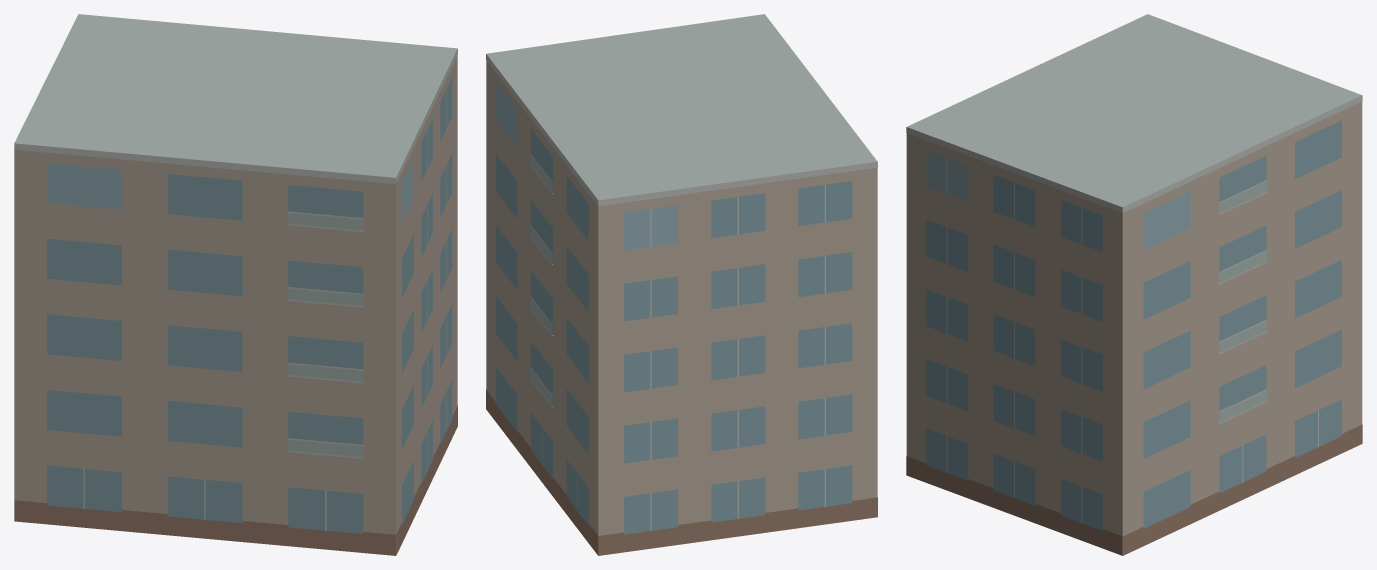
Rendered from survey-upis-33044371.glb.
3 views of the same model, side by side, from view 1: azimuth 30°, elevation 25°; view 2: azimuth 150°, elevation 25°; view 3: azimuth 270°, elevation 25° (orthographic). The views are drawn at different scales.
Parts seen in each view (by area): view 1: survey-upis-33044371.tmp; view 2: survey-upis-33044371.tmp; view 3: survey-upis-33044371.tmp.
Part boxes in pixels (x1=…): survey-upis-33044371.tmp: x1=14, y1=14, x2=457, y2=555; survey-upis-33044371.tmp: x1=486, y1=14, x2=877, y2=555; survey-upis-33044371.tmp: x1=906, y1=14, x2=1362, y2=555.
Bounding box in the file's own units: 17.15 × 14.4 × 17.08.
